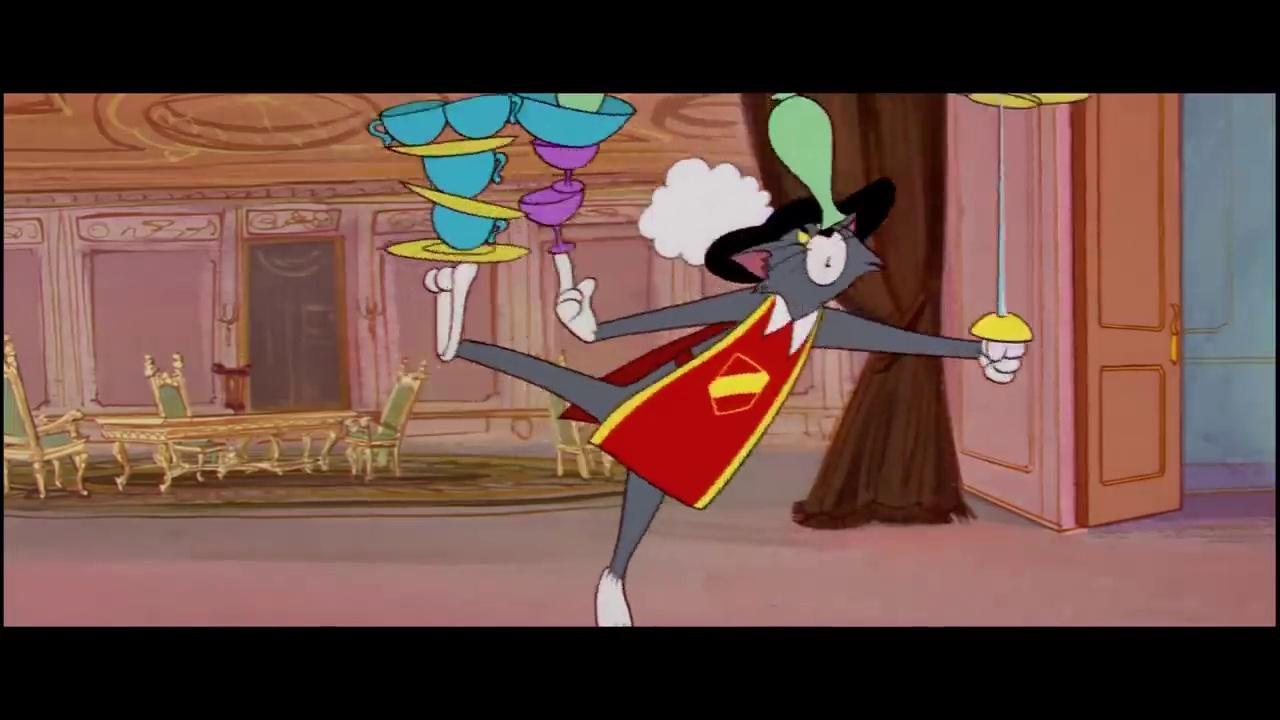Tom: (422, 208, 1032, 626)
